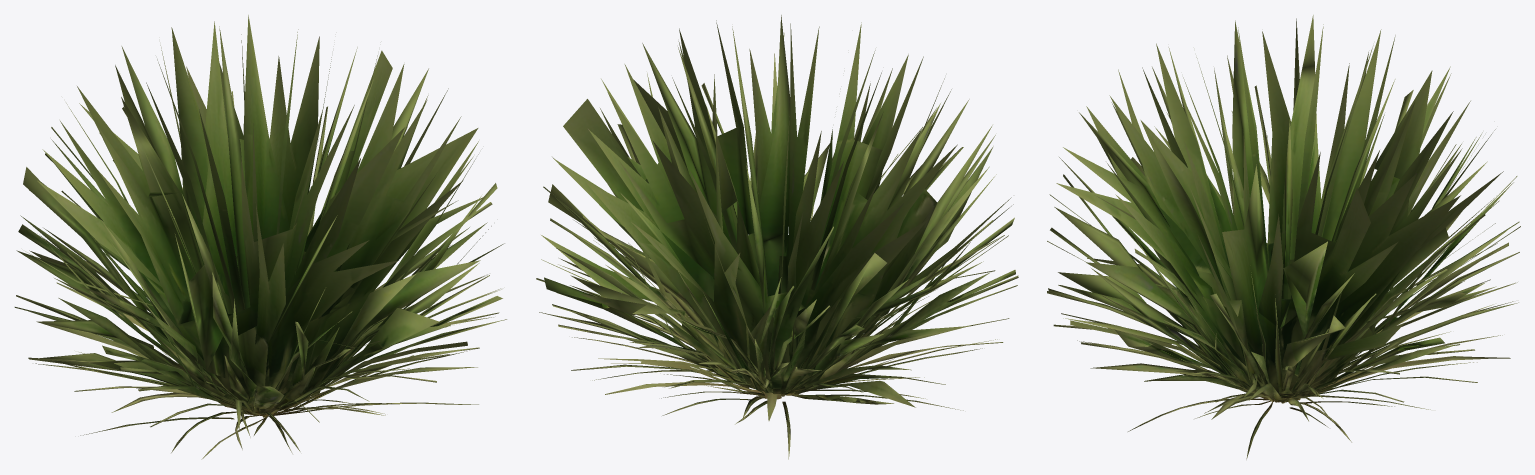
Rendered from shrub.glb.
3 renders of one model, left to right at view 1: azimuth 30°, elevation 25°; view 2: azimuth 150°, elevation 25°; view 3: azimuth 270°, elevation 25°, orthographic. The views are drawn at different scales.
Parts seen in each view (by area): view 1: tripo_node_6ae58bee-5d8a-4b2d-b24f-90bea5e2e254; view 2: tripo_node_6ae58bee-5d8a-4b2d-b24f-90bea5e2e254; view 3: tripo_node_6ae58bee-5d8a-4b2d-b24f-90bea5e2e254.
Part boxes in pixels (box(x1,y1,x2,y2)): tripo_node_6ae58bee-5d8a-4b2d-b24f-90bea5e2e254: box(14, 15, 506, 459); tripo_node_6ae58bee-5d8a-4b2d-b24f-90bea5e2e254: box(536, 15, 1018, 459); tripo_node_6ae58bee-5d8a-4b2d-b24f-90bea5e2e254: box(1047, 15, 1520, 459).
Size of the model in its own units: 0.998 by 0.7754 by 0.9941.
Materials: 1 (1 with a texture image).
